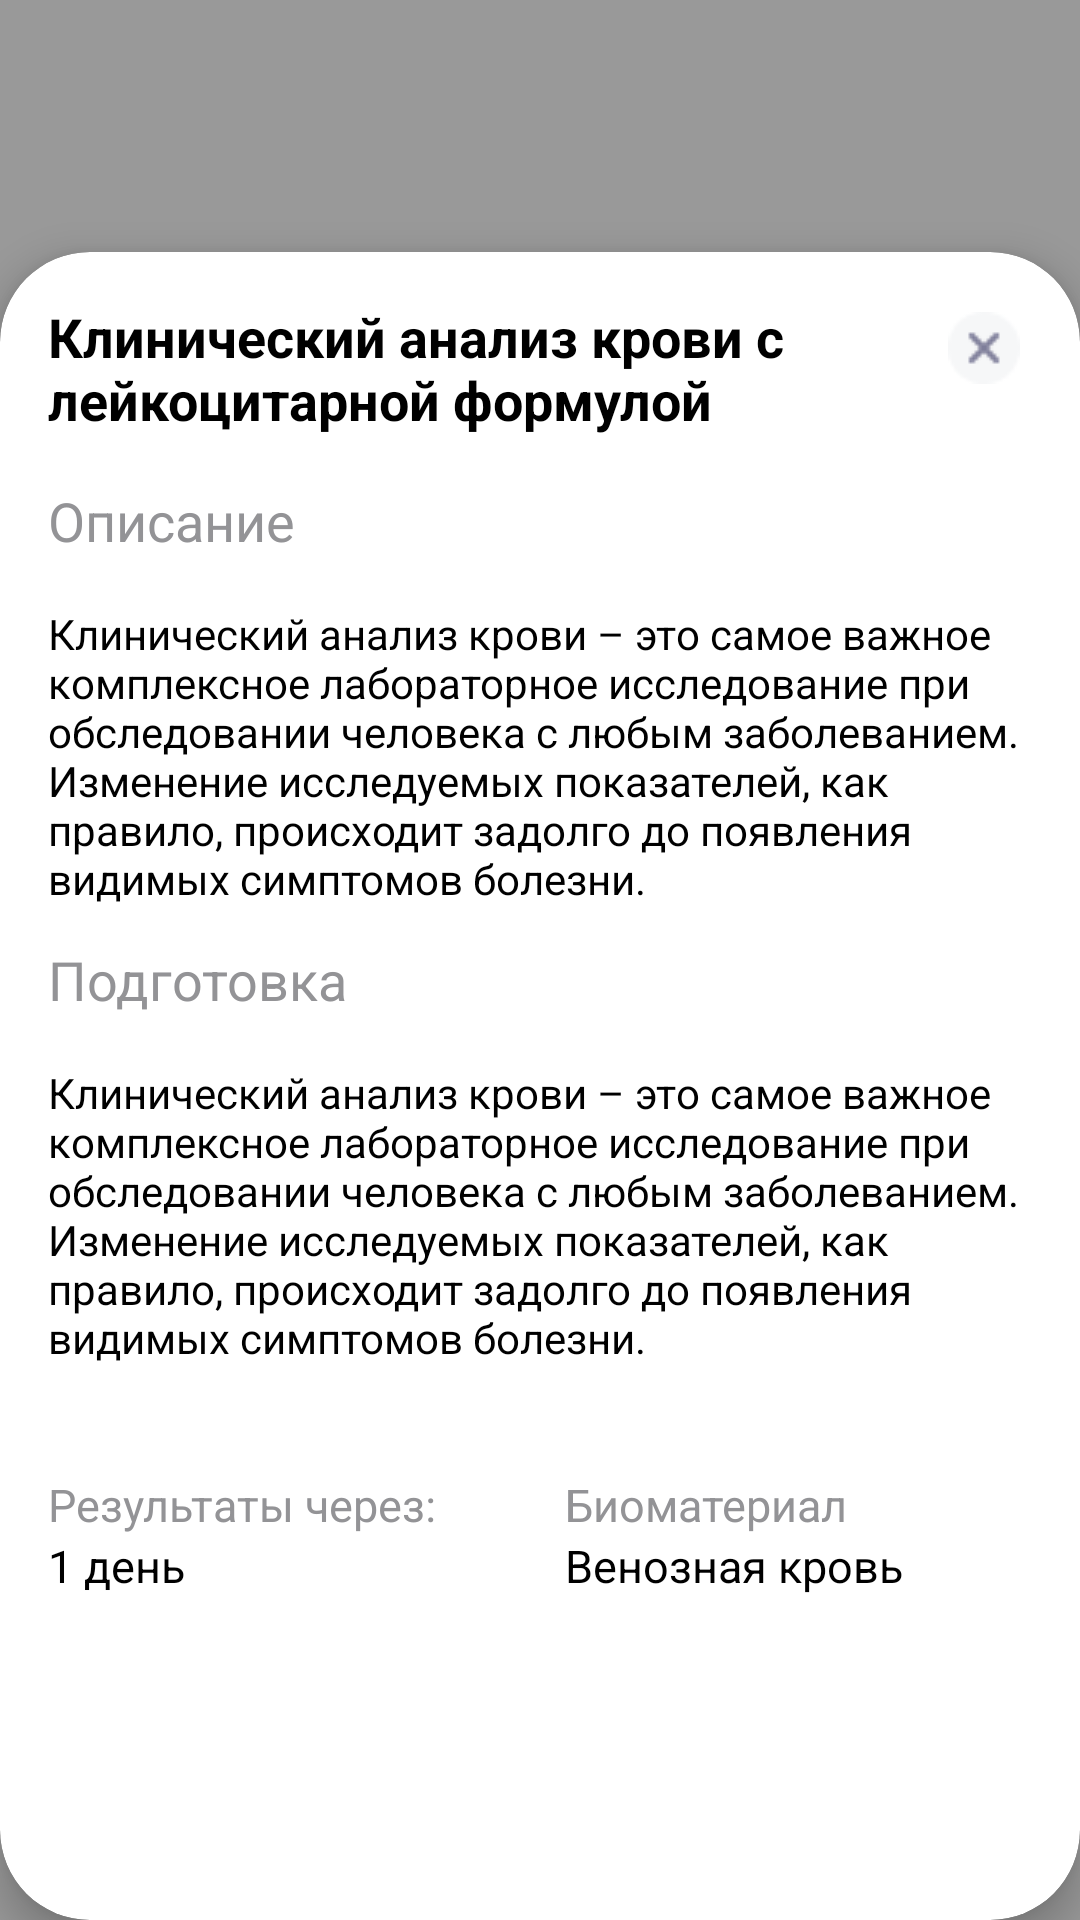

Named icons in this screenshot (1080 × 1920) and their centers, (x,y):
close data analysis: (984,348)
